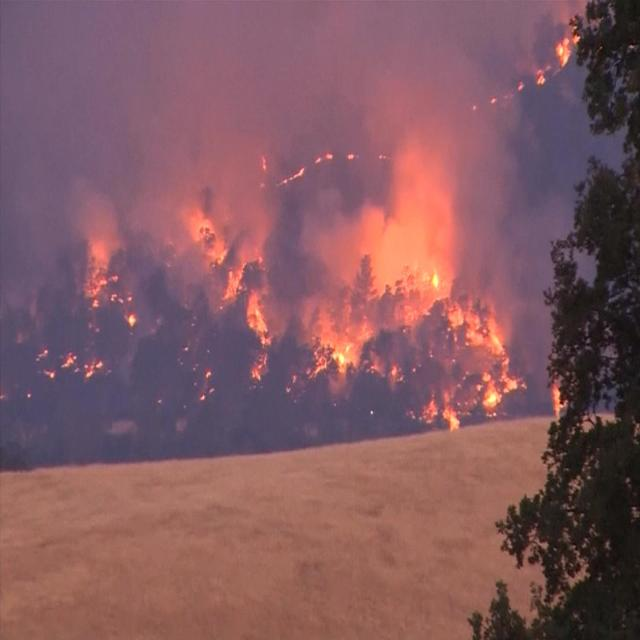Fire: (317, 197, 516, 432), (243, 283, 274, 383)
